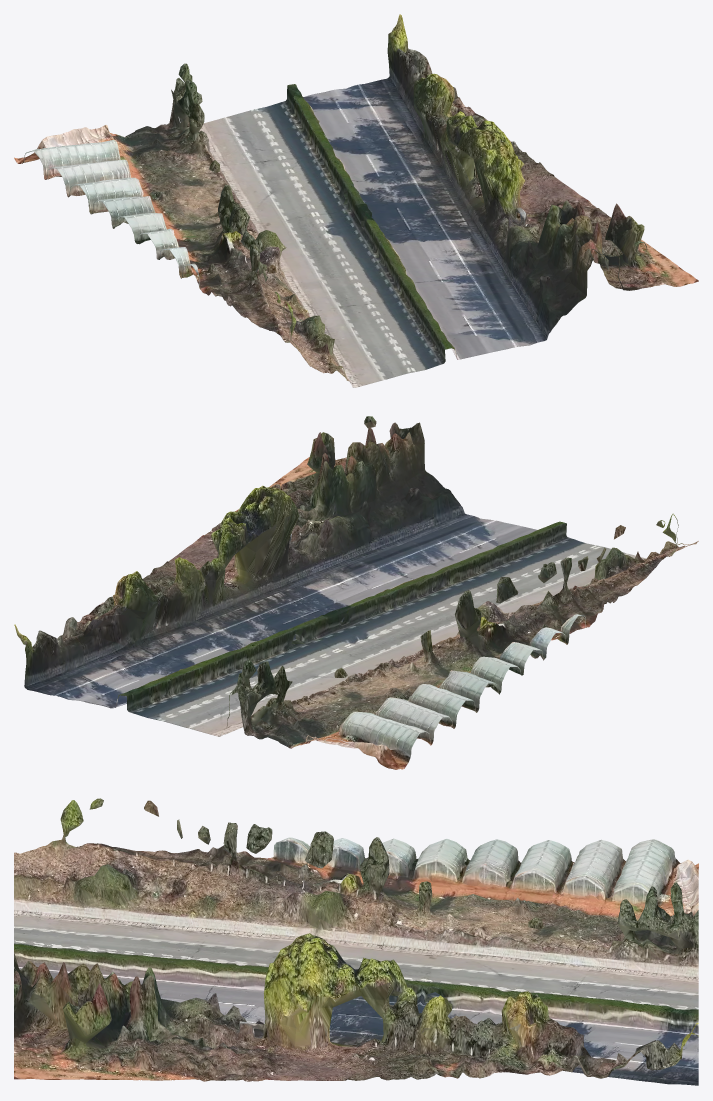
File: BlockBB_L19_59.glb
3 renders of one model, top to bottom at view 1: azimuth 30°, elevation 25°; view 2: azimuth 150°, elevation 25°; view 3: azimuth 270°, elevation 25°, orthographic. The views are drawn at different scales.
Parts seen in each view (by area): view 1: rtc; view 2: rtc; view 3: rtc.
Part boxes in pixels (box(x1,y1,x2,y2)): rtc: box(14, 14, 698, 387); rtc: box(14, 416, 698, 769); rtc: box(14, 798, 698, 1085).
Bounding box in the file's own units: 53.38 × 14.08 × 71.38.
Materials: 2 (2 with a texture image).
